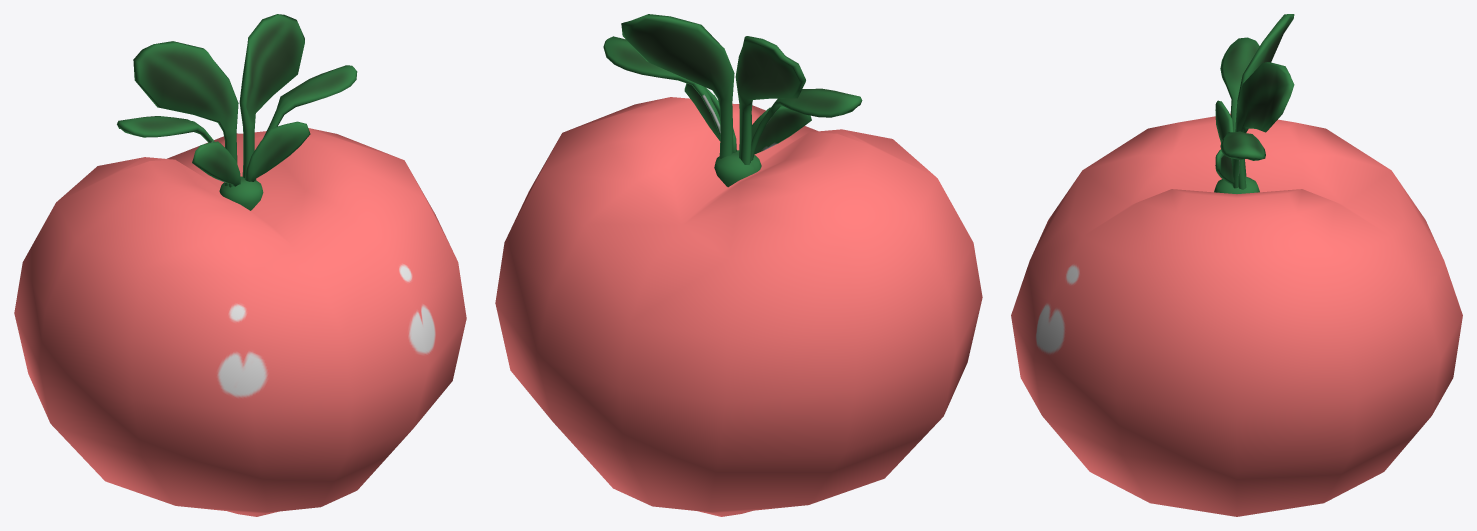
The model's file is Poncho_LOW.fbx.
3 views of the same model, side by side, from view 1: azimuth 30°, elevation 25°; view 2: azimuth 150°, elevation 25°; view 3: azimuth 270°, elevation 25° (orthographic). The views are drawn at different scales.
Parts seen in each view (by area): view 1: Poncho_LOW; view 2: Poncho_LOW; view 3: Poncho_LOW.
Boxes of the visible parts, bbox=[...] form: Poncho_LOW: bbox=[14, 14, 466, 516]; Poncho_LOW: bbox=[495, 14, 982, 516]; Poncho_LOW: bbox=[1011, 14, 1462, 516].
Bounding box in the file's own units: 65.47 × 72.03 × 62.63.
